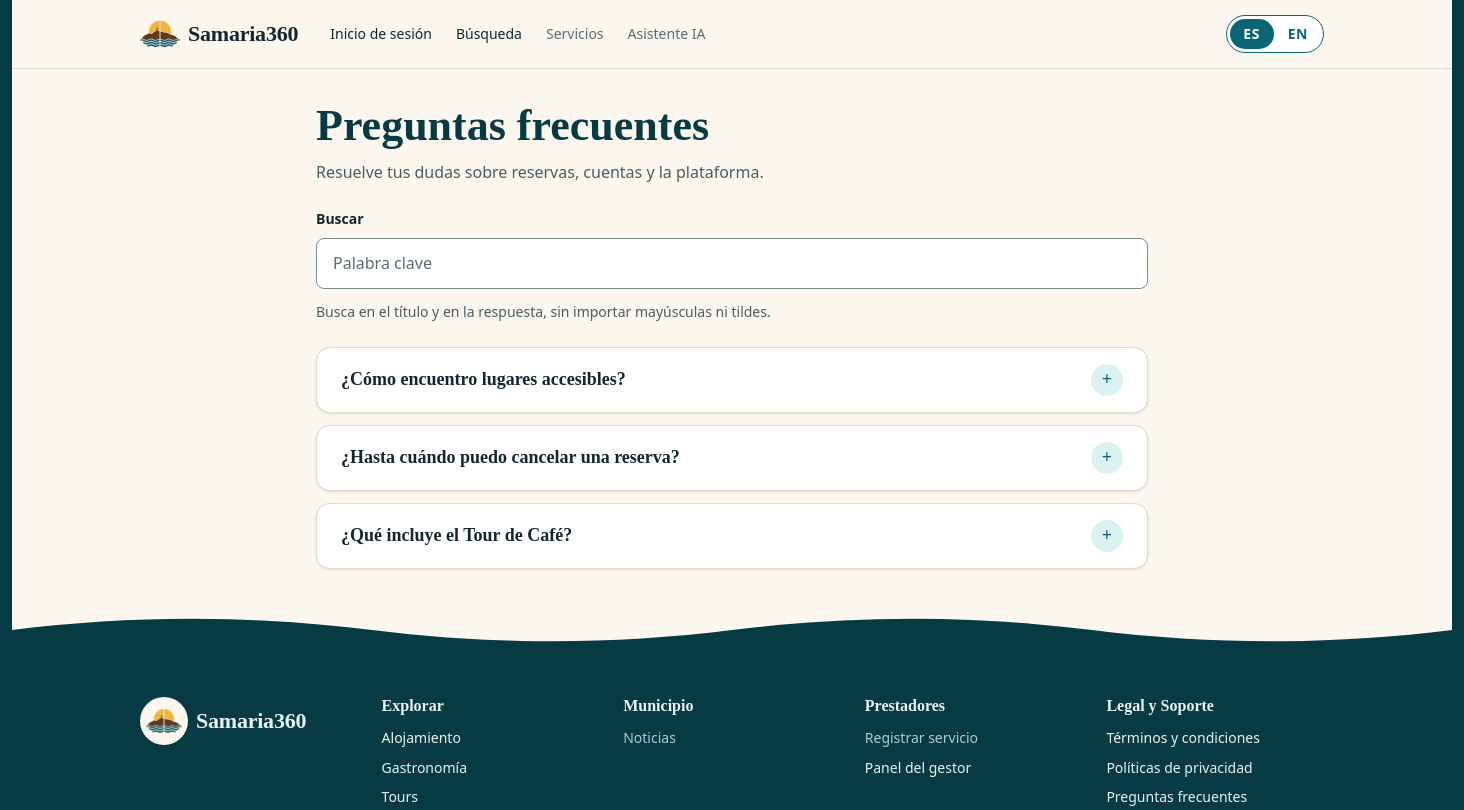
Test: WF-13, sección pública de preguntas frecuentes (RF26) › en inglés traduce la interfaz; las preguntas siguen como se escribieron (DEC-69)
Expected: the search field labelled "Buscar" is shown, x1=333 y1=239 x2=1131 y2=288
Click the button with aria-label "Inglés" at (1298, 34), box x1=1276 y1=19 x2=1320 y2=49
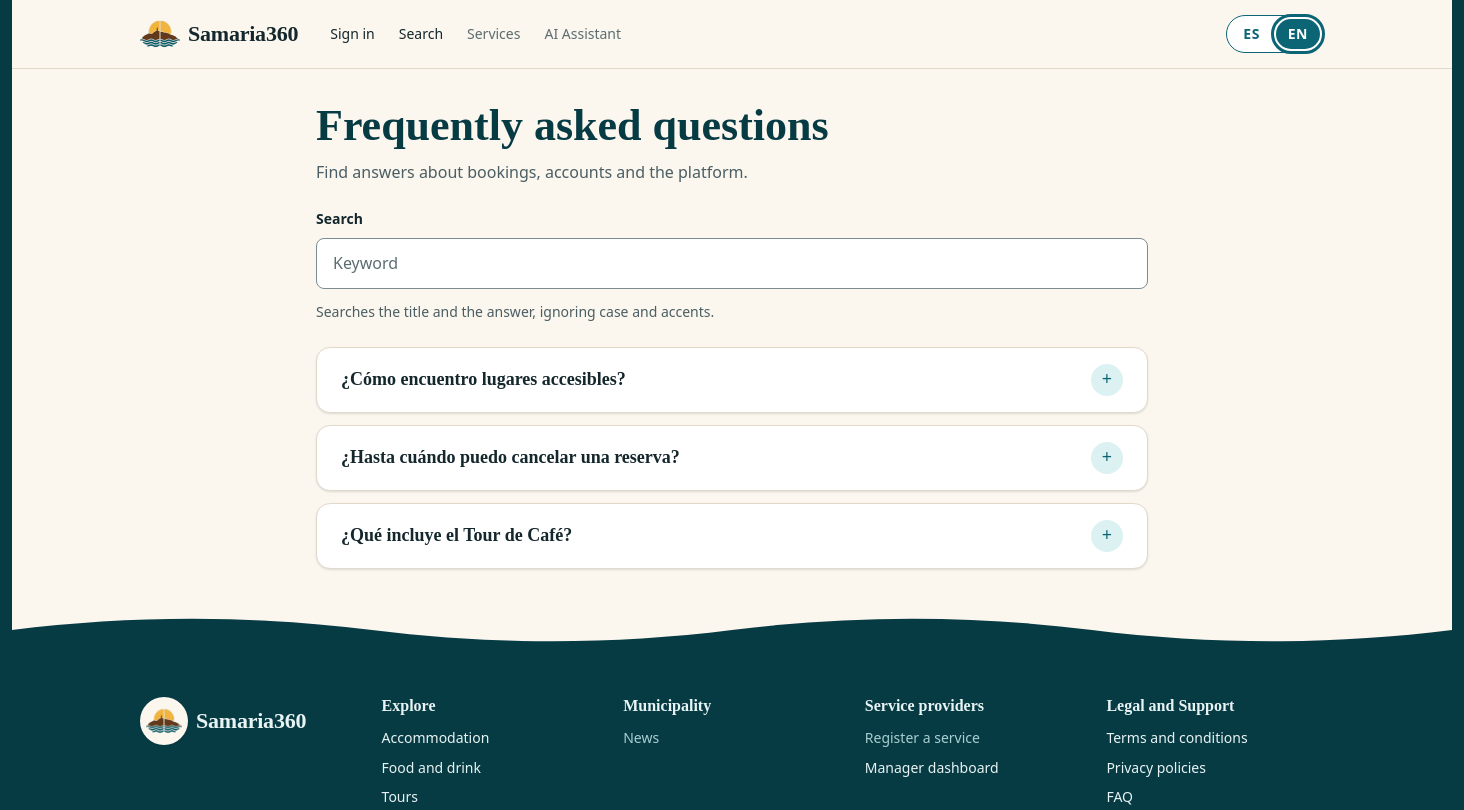
Expected: the search field labelled "Search" is shown, x1=333 y1=239 x2=1131 y2=288
Expected: the heading "Frequently asked questions" is shown, x1=316 y1=101 x2=829 y2=150
